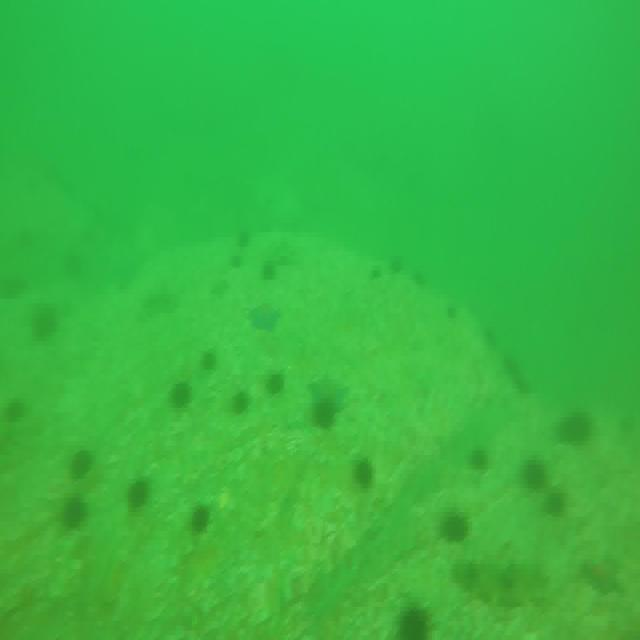echinus: (398, 604, 434, 640), (559, 411, 592, 449), (440, 506, 473, 544), (521, 458, 550, 497), (61, 494, 88, 532), (128, 471, 153, 511), (31, 305, 58, 337), (189, 501, 211, 537), (547, 489, 570, 522), (70, 446, 93, 478), (170, 380, 193, 412), (468, 446, 492, 476), (354, 454, 375, 488), (314, 396, 336, 428), (5, 394, 28, 421), (232, 389, 253, 415), (267, 371, 288, 396), (261, 257, 278, 284), (202, 354, 218, 376), (235, 228, 252, 248), (228, 252, 245, 272), (370, 260, 384, 280)
holothurian: (454, 558, 548, 604)
starfish: (583, 554, 622, 597), (247, 302, 283, 332)
